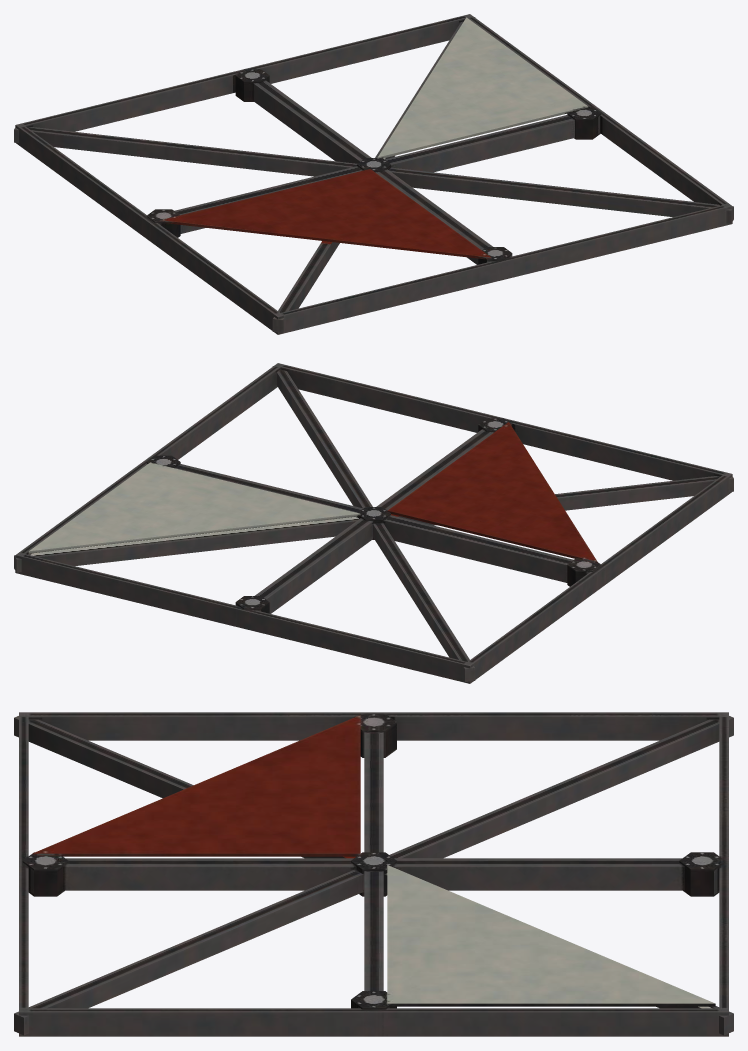
File: dome_roof.glb
3 views of the same model, one above another, from view 1: azimuth 30°, elevation 25°; view 2: azimuth 150°, elevation 25°; view 3: azimuth 270°, elevation 25° (orthographic). The views are drawn at different scales.
Visible parts, largest first — view 1: dome_roof; view 2: dome_roof; view 3: dome_roof.
Boxes of the visible parts, left/top/right/bottom form: dome_roof: left=14, top=14, right=733, bottom=334; dome_roof: left=14, top=363, right=733, bottom=683; dome_roof: left=14, top=712, right=733, bottom=1036.
Bounding box in the file's own units: 8.11 × 0.36 × 8.11.
Materials: 1 (1 with a texture image).
